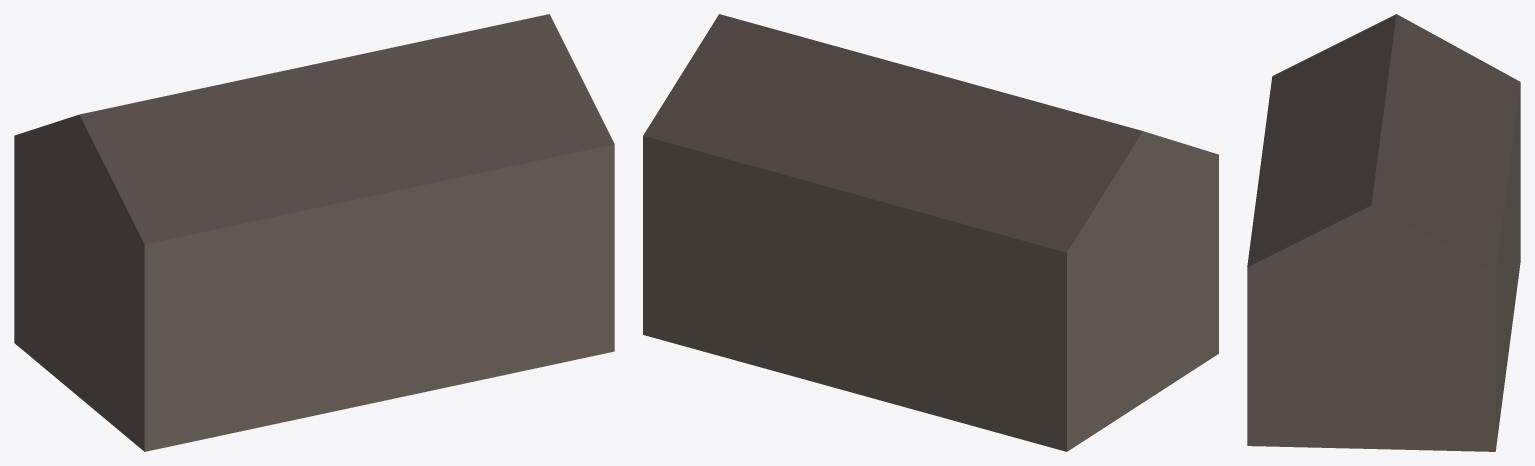
The picture shows the model from 3 angles, left to right: view 1: azimuth 30°, elevation 25°; view 2: azimuth 150°, elevation 25°; view 3: azimuth 270°, elevation 25°; orthographic projection. The views are drawn at different scales.
Visible parts, largest first — view 1: HP-w858824303; view 2: HP-w858824303; view 3: HP-w858824303.
Boxes of the visible parts, <box> form: HP-w858824303: <box>14,14,614,451</box>; HP-w858824303: <box>643,14,1218,451</box>; HP-w858824303: <box>1247,14,1520,451</box>.
Size of the model in its own units: 14.23 by 8.19 by 8.34.
